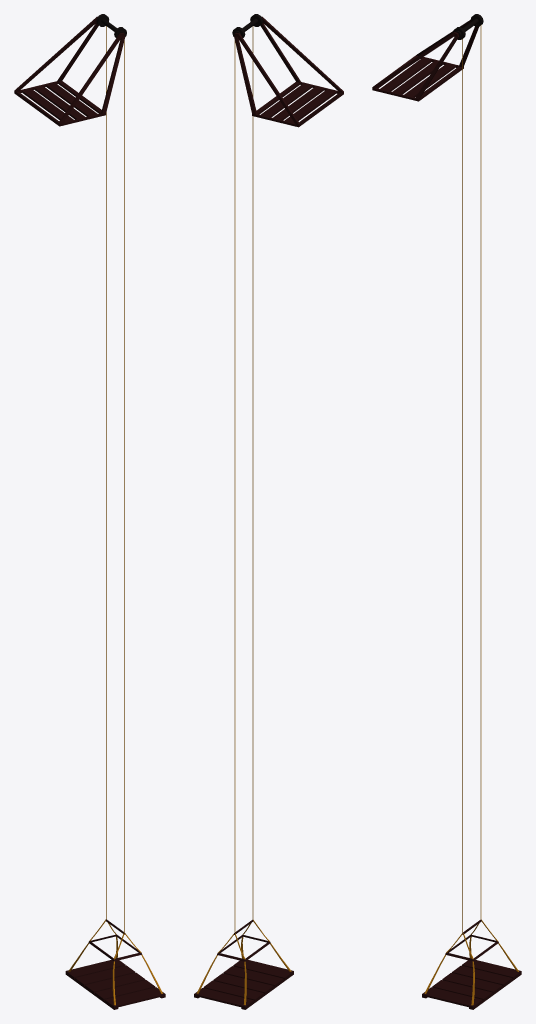
Rendered from Elevator.FBX.
The picture shows the model from 3 angles, left to right: view 1: azimuth 30°, elevation 25°; view 2: azimuth 150°, elevation 25°; view 3: azimuth 330°, elevation 25°; orthographic projection.
Visible parts, largest first — view 1: Frame, Cabin, Rope; view 2: Frame, Rope, Cabin; view 3: Cabin, Frame, Rope.
Part boxes in pixels (bbox=[...]): Frame: bbox=[14, 16, 125, 126]; Cabin: bbox=[65, 919, 165, 1009]; Rope: bbox=[106, 26, 124, 932]; Frame: bbox=[234, 16, 343, 127]; Rope: bbox=[234, 26, 253, 932]; Cabin: bbox=[194, 919, 293, 1009]; Cabin: bbox=[422, 919, 521, 1009]; Frame: bbox=[372, 20, 478, 101]; Rope: bbox=[462, 25, 481, 932].
Size of the model in its own units: 12.09 by 108 by 9.82.
